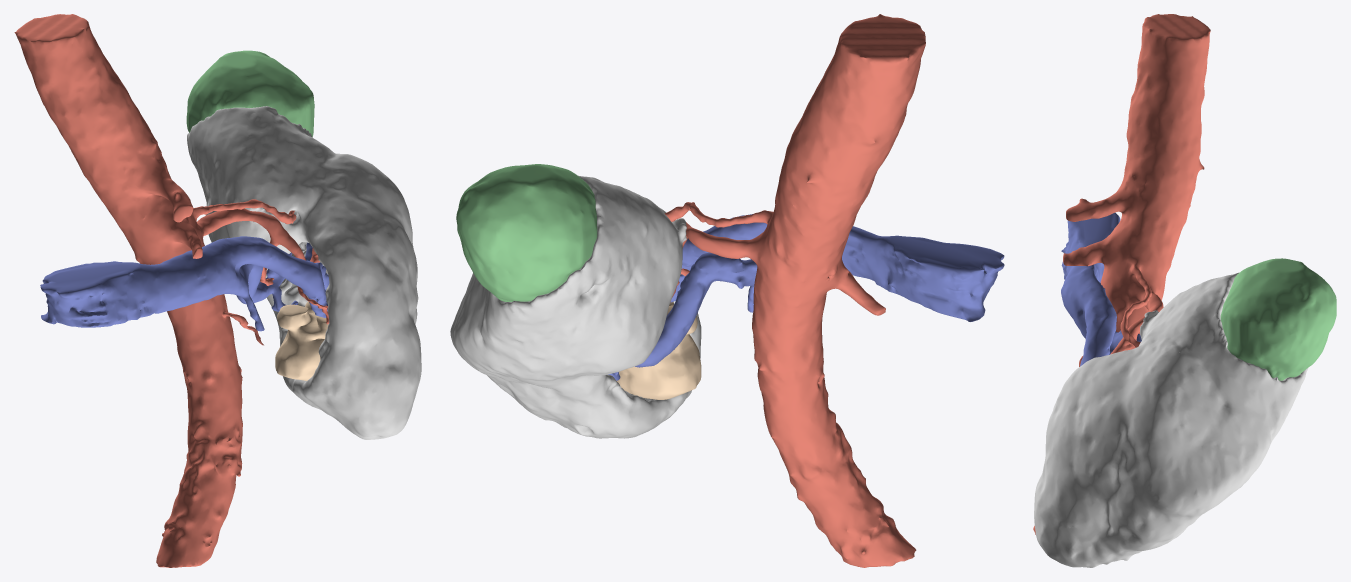
The picture shows the model from 3 angles, left to right: view 1: azimuth 30°, elevation 25°; view 2: azimuth 150°, elevation 25°; view 3: azimuth 270°, elevation 25°; orthographic projection. The views are drawn at different scales.
Visible parts, largest first — view 1: Rene, Arterie, Vene, Tumore, Cisti Parapieliche; view 2: Arterie, Rene, Tumore, Vene, Cisti Parapieliche; view 3: Rene, Arterie, Tumore, Vene.
Boxes of the visible parts, bbox=[...] form: Rene: bbox=[187, 106, 421, 439]; Arterie: bbox=[14, 14, 329, 567]; Vene: bbox=[40, 236, 329, 331]; Tumore: bbox=[186, 50, 314, 136]; Cisti Parapieliche: bbox=[275, 301, 328, 380]; Arterie: bbox=[664, 14, 925, 567]; Rene: bbox=[450, 175, 701, 438]; Tumore: bbox=[456, 164, 597, 301]; Vene: bbox=[608, 214, 1004, 380]; Cisti Parapieliche: bbox=[616, 302, 701, 399]; Rene: bbox=[1034, 272, 1308, 567]; Arterie: bbox=[1033, 14, 1210, 534]; Tumore: bbox=[1220, 258, 1336, 380]; Vene: bbox=[1061, 212, 1141, 366].
Size of the model in its own units: 0.1535 by 0.1814 by 0.103.
